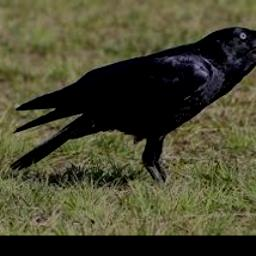Crow: (11, 26, 256, 185)
